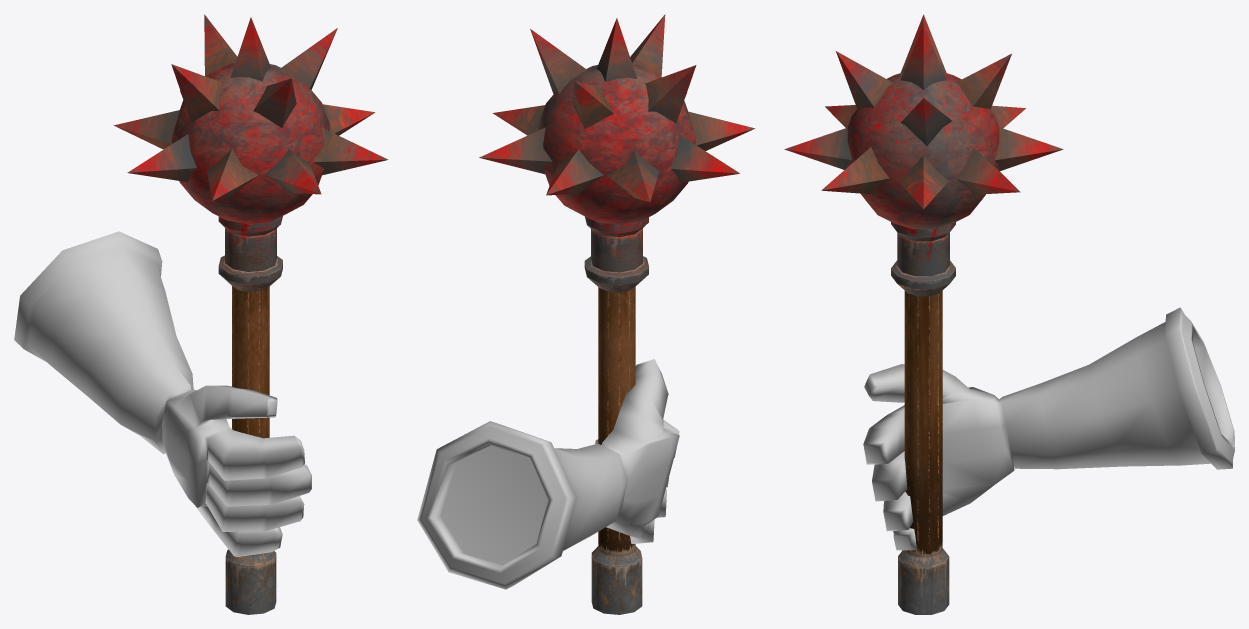
The model's file is Mod_Spikklubba_5-5.fbx.
3 views of the same model, side by side, from view 1: azimuth 30°, elevation 25°; view 2: azimuth 150°, elevation 25°; view 3: azimuth 270°, elevation 25° (orthographic).
Parts seen in each view (by area): view 1: pCylinder4; view 2: pCylinder4; view 3: pCylinder4.
Boxes of the visible parts, bbox=[...] form: pCylinder4: bbox=[14, 14, 388, 614]; pCylinder4: bbox=[417, 14, 755, 614]; pCylinder4: bbox=[784, 14, 1234, 614].
Bounding box in the file's own units: 25.54 × 57.63 × 40.61.
